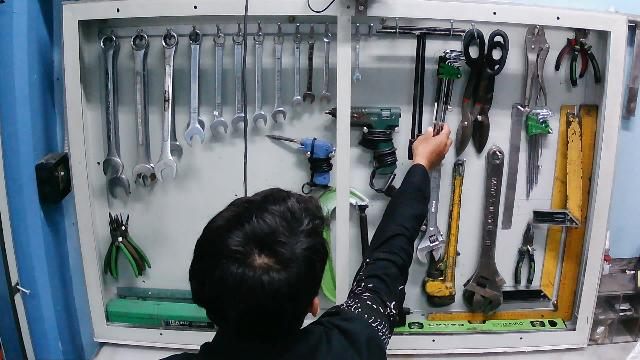kunci_l: (431, 47, 468, 152)
